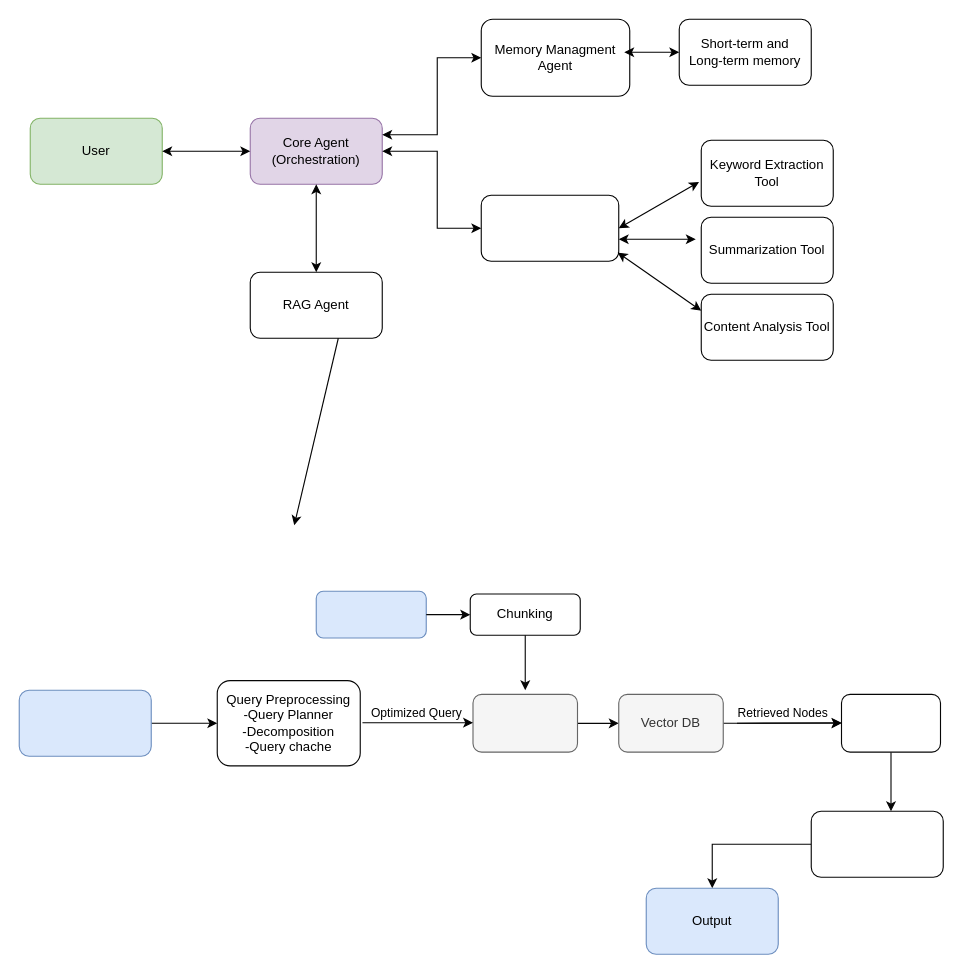
This 964x975 diagram has some shape labels left out. Each missing label, with the centre of its shape:
"Addition tools Agent" goes at pixel 549 227.
"Embedding" goes at pixel 525 722.
"LLM" goes at pixel 890 722.
"Load Data" goes at pixel 370 614.
"Query" goes at pixel 84 722.
"Reranker" goes at pixel 876 843.
